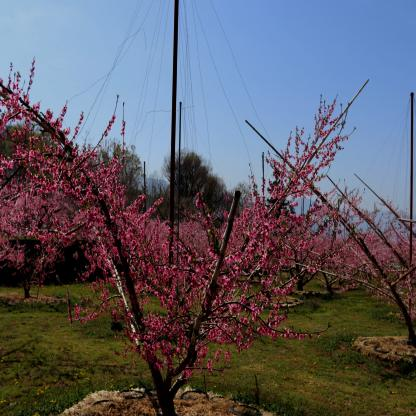Momo: (0, 57, 369, 385), (0, 161, 90, 282), (221, 214, 324, 276), (128, 209, 225, 269), (320, 226, 416, 284)
